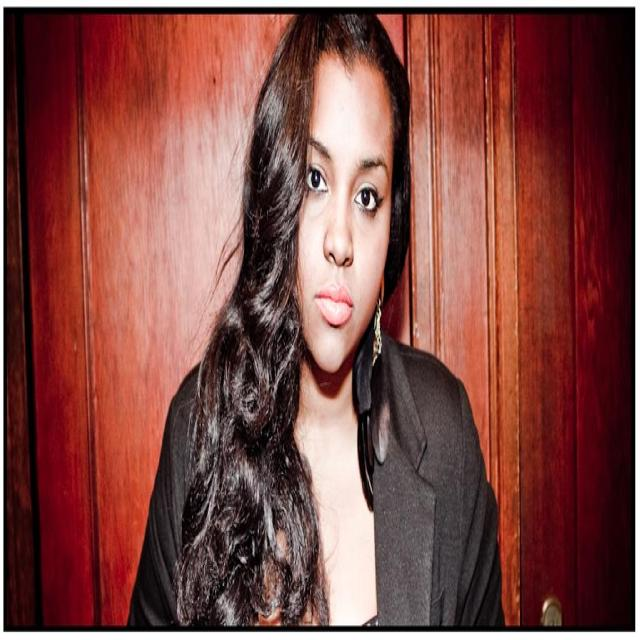Face: (292, 60, 399, 371)
